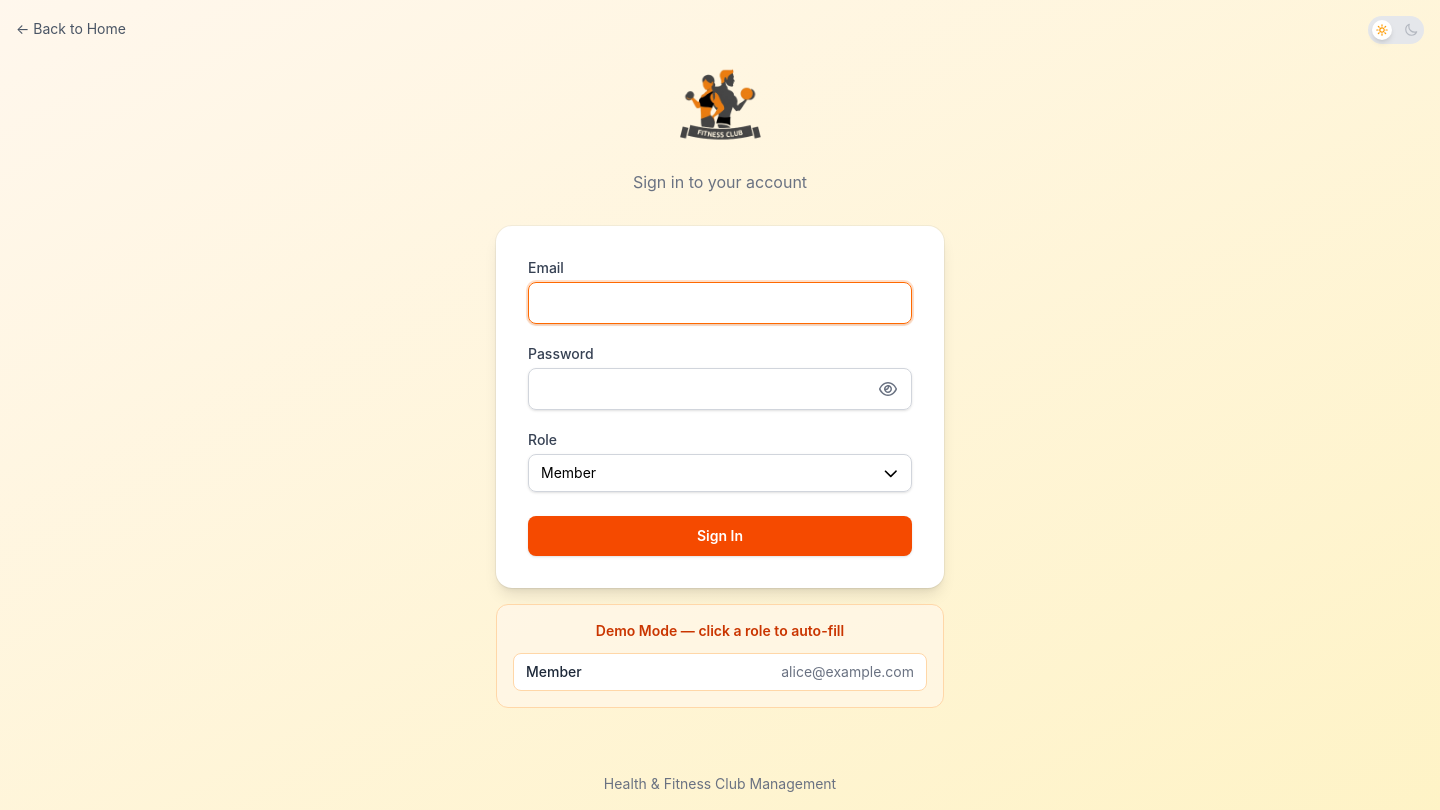
Test: Login page › fills form when demo account is clicked
Click the text "alice@example.com" at [848, 672], box [781,662,914,682]
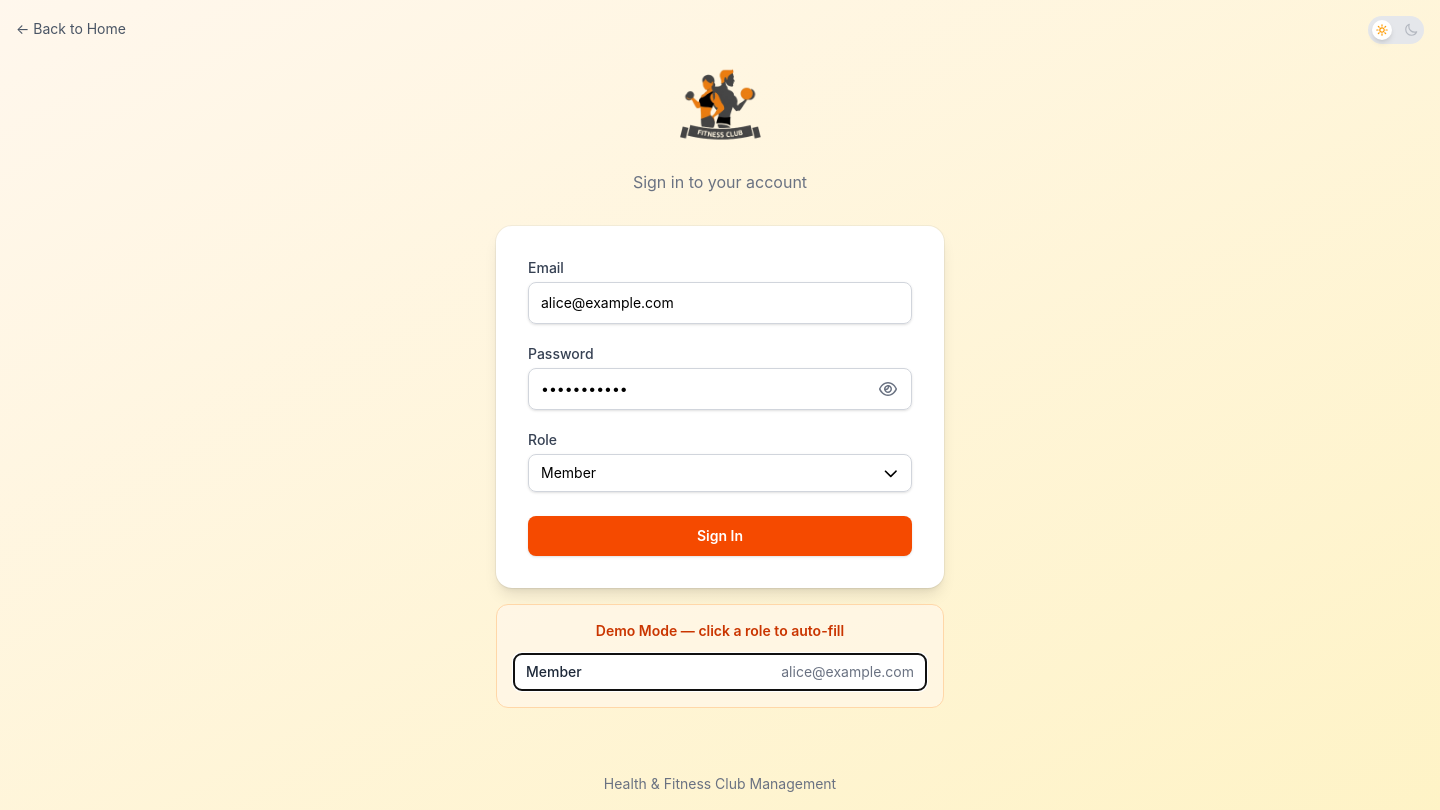
Result: the field holds "alice@example.com" at [528,282,912,324]
